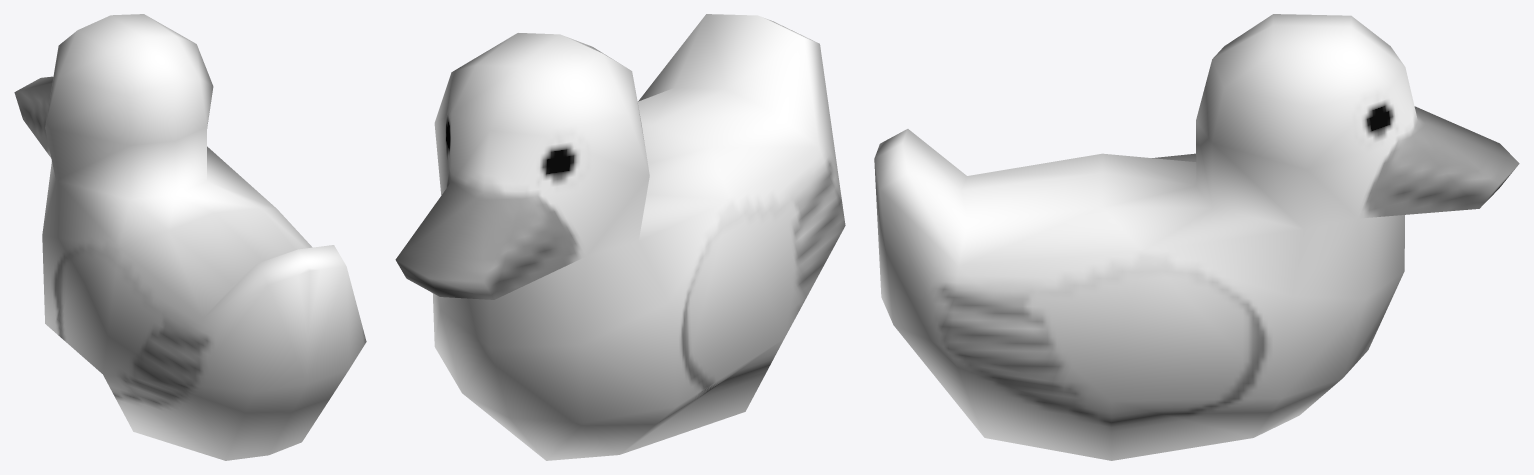
Rendered from WhiteRubberducky.fbx.
The picture shows the model from 3 angles, left to right: view 1: azimuth 30°, elevation 25°; view 2: azimuth 150°, elevation 25°; view 3: azimuth 270°, elevation 25°; orthographic projection. The views are drawn at different scales.
Parts seen in each view (by area): view 1: Object; view 2: Object; view 3: Object.
Part boxes in pixels (x1,y1,x2,y2): Object: [14, 14, 366, 460]; Object: [395, 14, 845, 460]; Object: [874, 14, 1519, 460].
Size of the model in its own units: 0.0718 by 0.1034 by 0.155.
